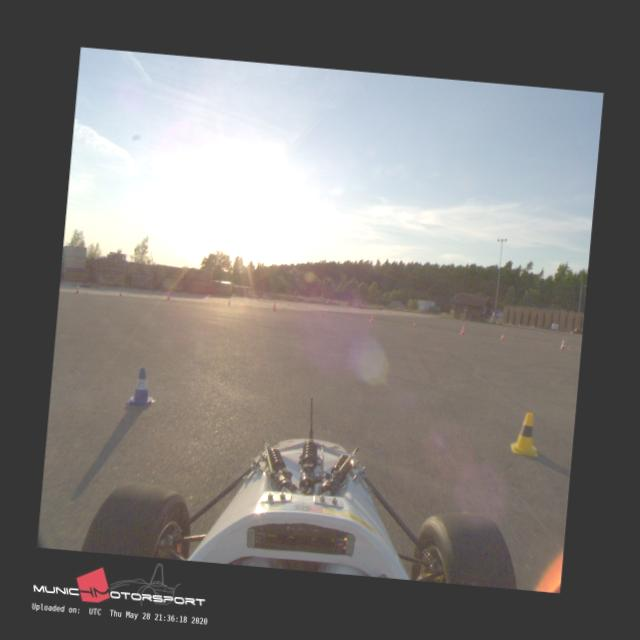blue_cone: (125, 366, 158, 408)
yellow_cone: (509, 410, 542, 458)
